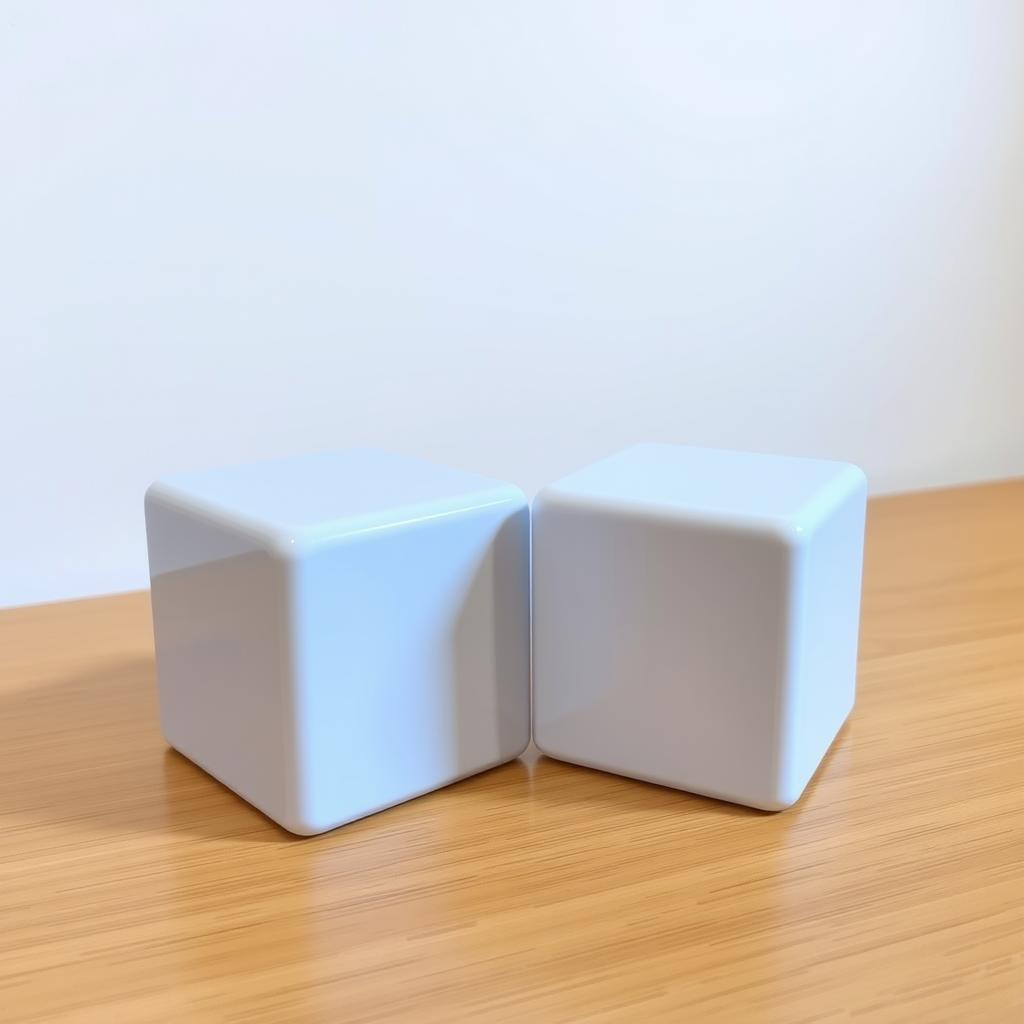cube: (143, 443, 531, 837), (529, 439, 867, 813)
